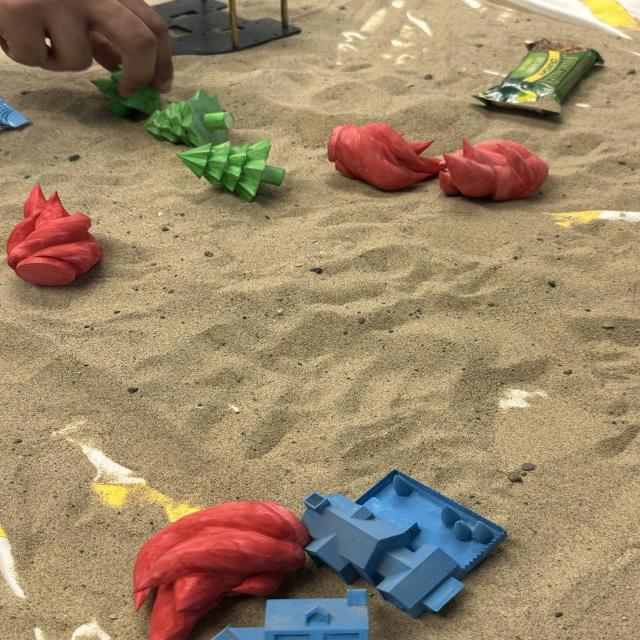fire: (130, 498, 310, 638), (5, 182, 104, 287), (326, 119, 446, 194), (435, 138, 554, 203)
house: (298, 466, 509, 618)
tree: (173, 135, 288, 200), (145, 89, 235, 148), (89, 65, 163, 118)
